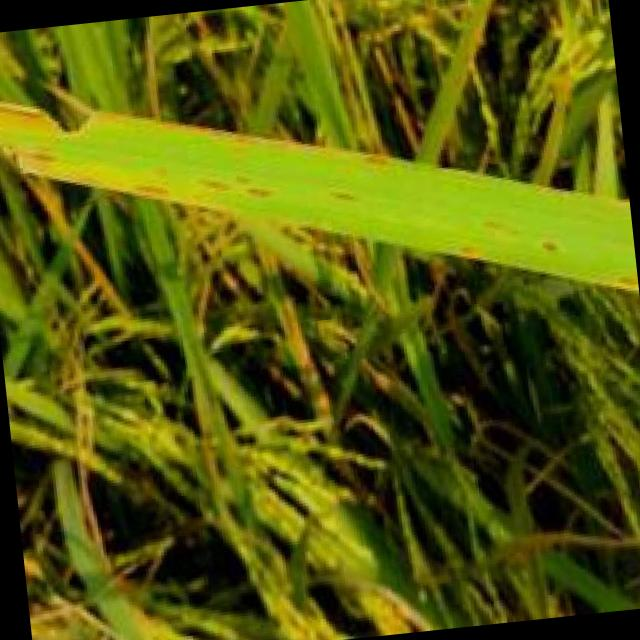Rice_Brownspot: (194, 152, 278, 204), (117, 163, 172, 200), (11, 136, 54, 168), (314, 180, 362, 206), (528, 228, 564, 258), (446, 234, 483, 261), (602, 264, 636, 293), (359, 143, 393, 169)
